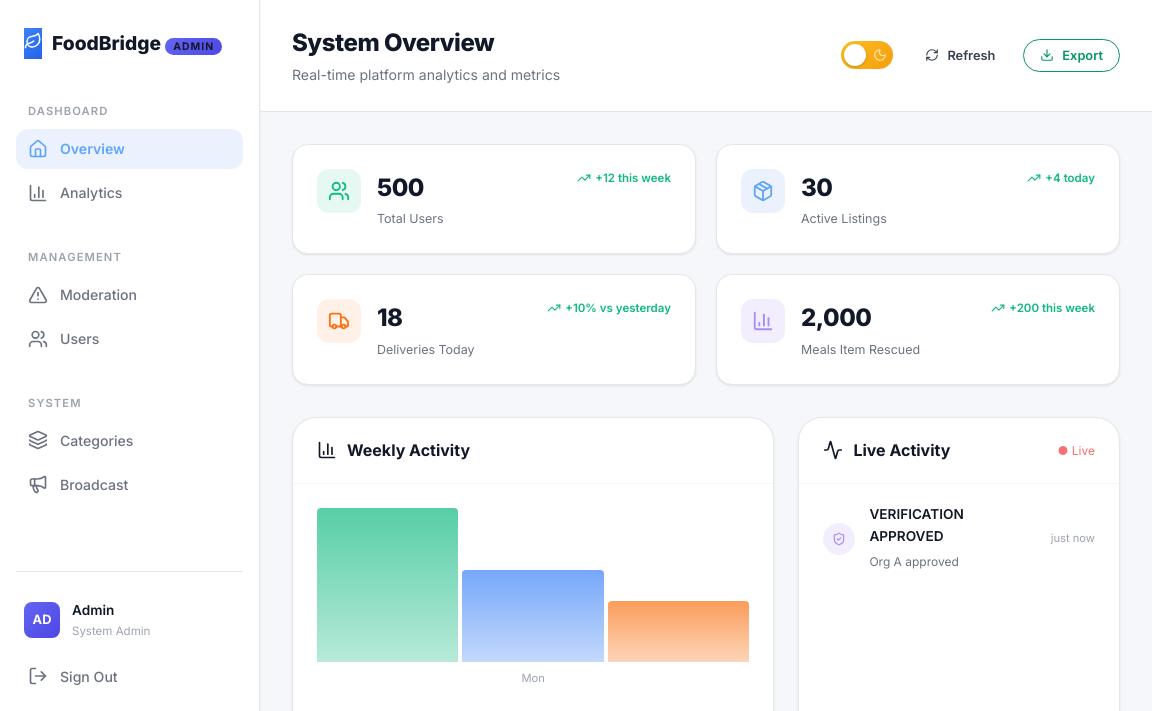
Test: AdminDashboard — sidebar navigation › switches to Moderation tab on click
Check: the heading "System Overview" is shown, box x1=292 y1=28 x2=494 y2=57
Click the button "Moderation". click: (130, 295)
box: x1=16 y1=275 x2=243 y2=315
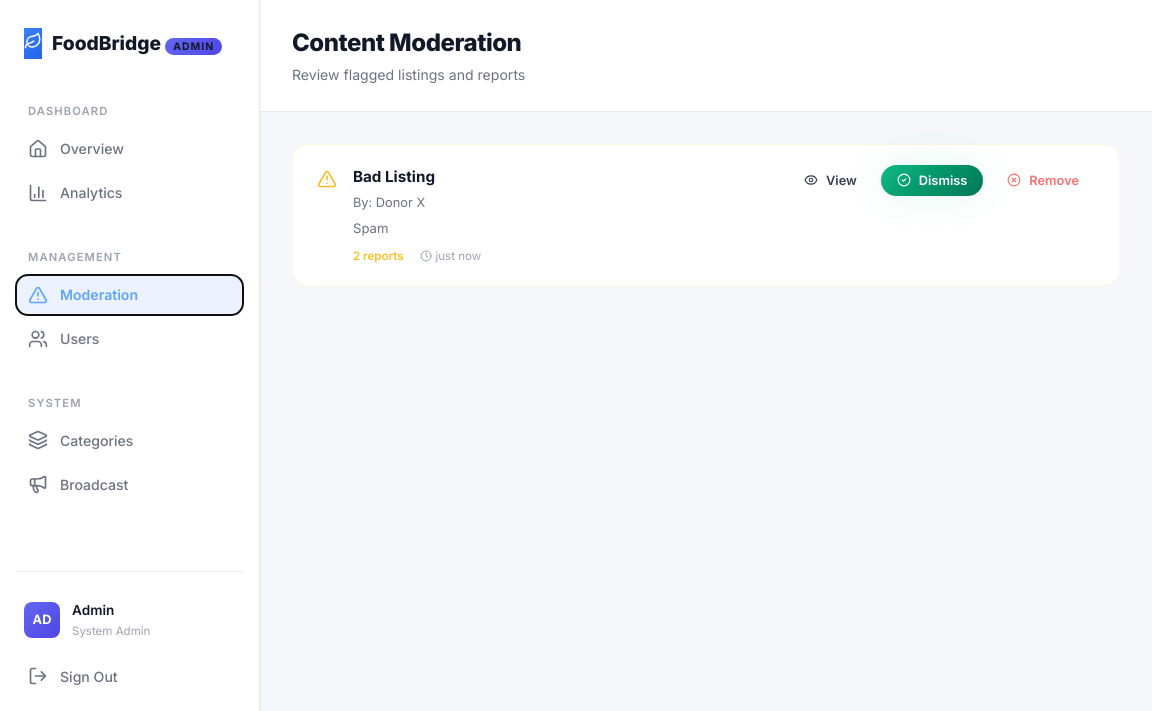
Check: the heading "Content Moderation" is shown, box x1=292 y1=24 x2=525 y2=62
